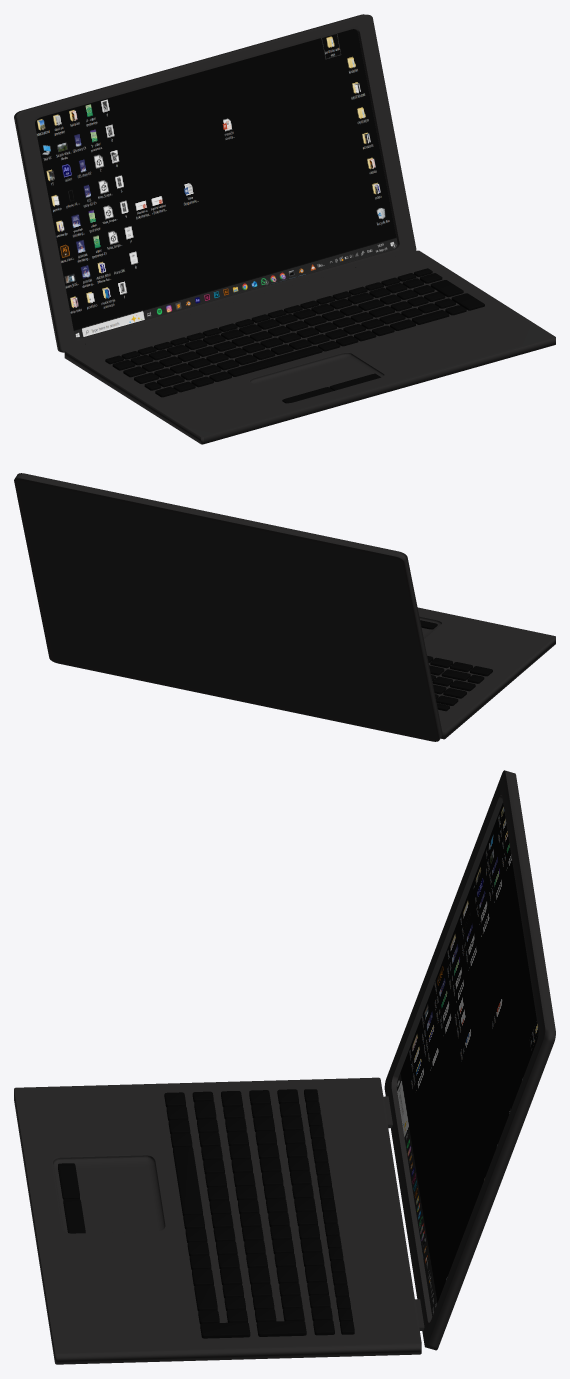
Rendered from laptop.glb.
3 views of the same model, one above another, from view 1: azimuth 30°, elevation 25°; view 2: azimuth 150°, elevation 25°; view 3: azimuth 270°, elevation 25° (orthographic). The views are drawn at different scales.
Parts seen in each view (by area): view 1: laptop; view 2: laptop; view 3: laptop.
Part boxes in pixels (box(x1,y1,x2,y2)): laptop: box(14, 14, 555, 444); laptop: box(14, 473, 555, 741); laptop: box(14, 770, 555, 1364).
Size of the model in its own units: 4.63 by 2.45 by 3.79.
4 materials, 1 textured.
